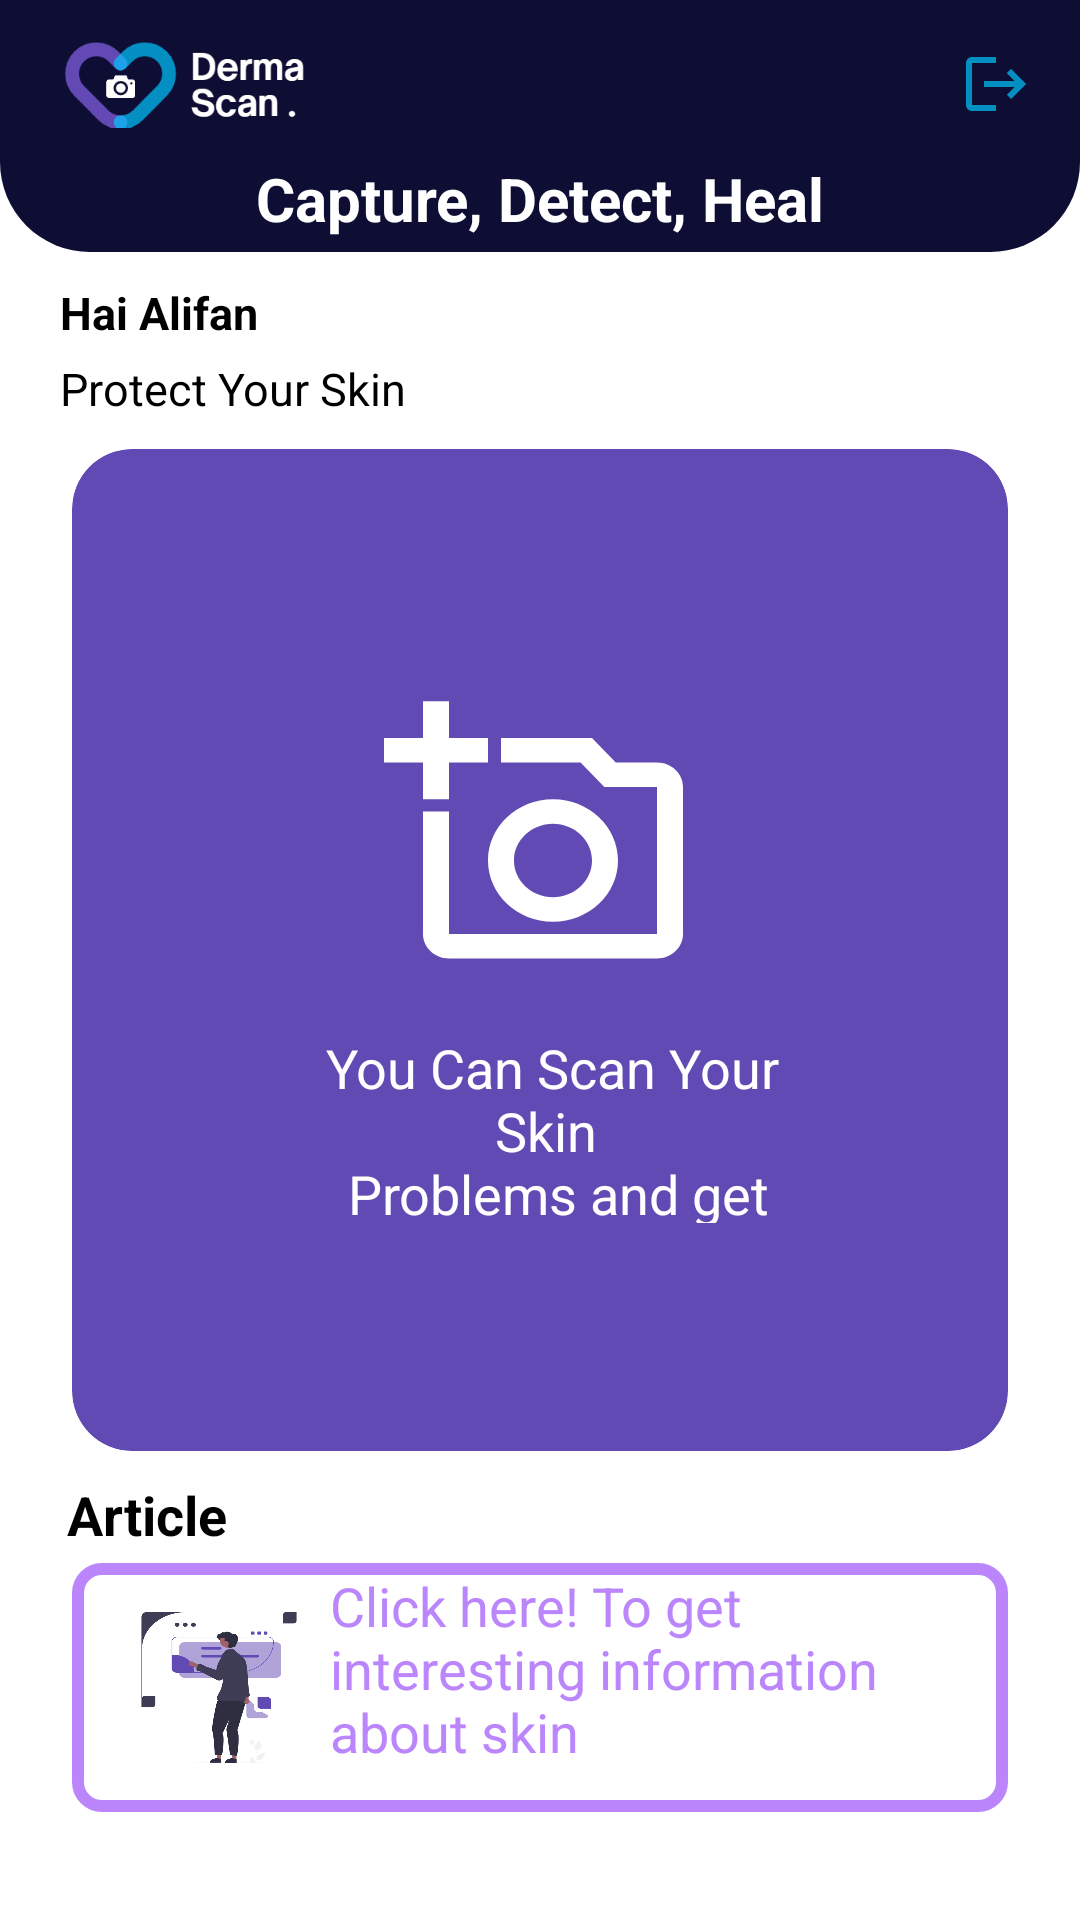

Where to tap for icons on this 1080 × 1920 app screen, as (x,y):
add photo: (533,830)
